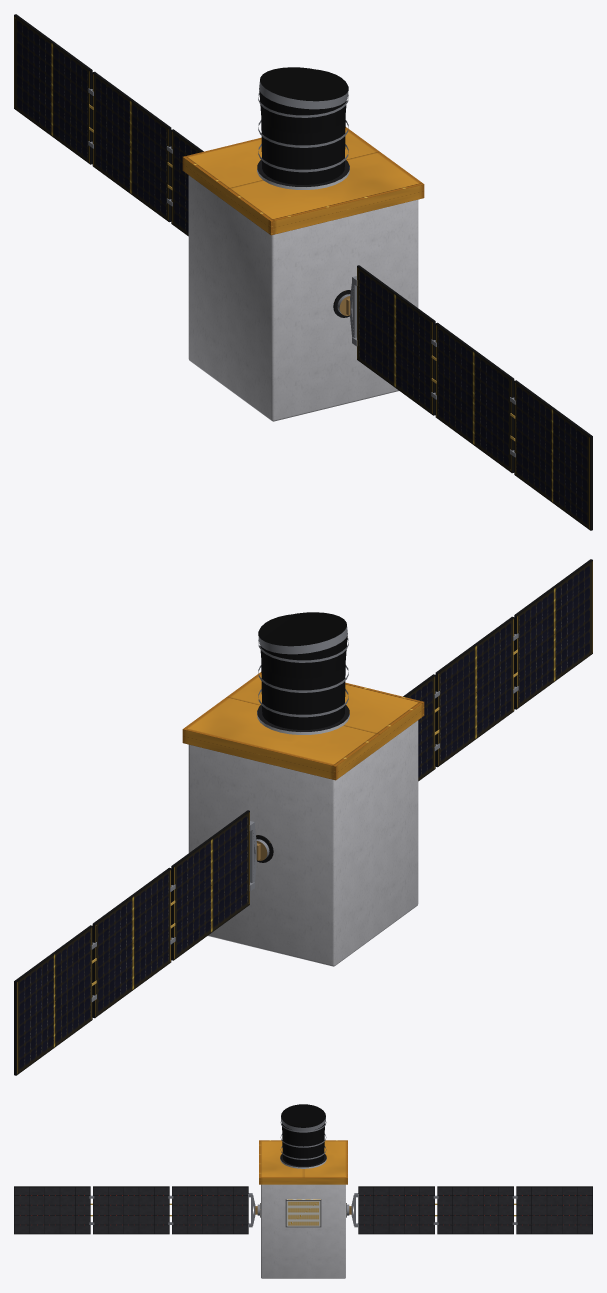
The model's file is cartosat-3.glb.
3 renders of one model, top to bottom at view 1: azimuth 30°, elevation 25°; view 2: azimuth 150°, elevation 25°; view 3: azimuth 270°, elevation 25°, orthographic. The views are drawn at different scales.
Visible parts, largest first — view 1: bus, wing-Y, wing+Y; view 2: bus, wing+Y, wing-Y; view 3: bus, wing+Y, wing-Y.
Part boxes in pixels (bbox=[...]): bus: bbox=[182, 67, 424, 421]; wing-Y: bbox=[346, 265, 592, 530]; wing+Y: bbox=[14, 14, 203, 236]; bus: bbox=[182, 612, 424, 966]; wing+Y: bbox=[14, 810, 260, 1075]; wing-Y: bbox=[403, 559, 592, 781]; bus: bbox=[259, 1104, 347, 1278]; wing+Y: bbox=[349, 1186, 592, 1234]; wing-Y: bbox=[14, 1186, 257, 1234].
Size of the model in its own units: 1.71 by 3.17 by 10.56.
Materials: 16 (6 with a texture image).
